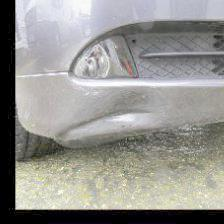bumper_dent: (47, 82, 172, 140)
